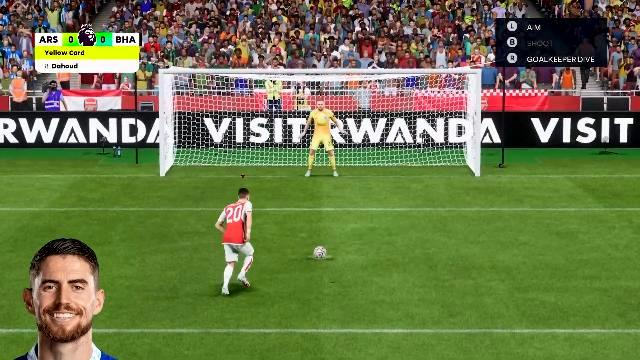bottom-left: (172, 133, 276, 177)
bottom-right: (366, 133, 469, 177)
center-down: (280, 132, 364, 178)
center-up: (276, 82, 364, 130)
circle: (309, 255, 333, 259)
football: (314, 246, 328, 256)
goalkeeper: (300, 103, 348, 178)
player: (210, 184, 260, 300)
top-left: (172, 80, 276, 132)
top-right: (367, 81, 467, 131)
